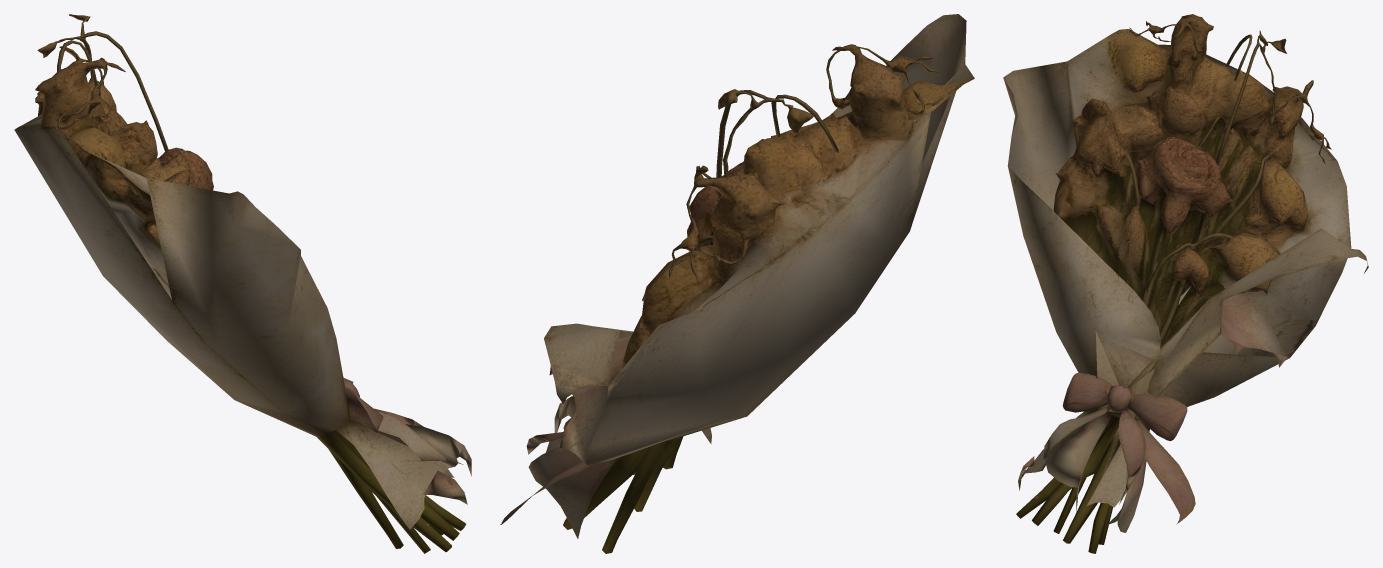
Rendered from Decayed Flower bouqet.fbx.
The picture shows the model from 3 angles, left to right: view 1: azimuth 30°, elevation 25°; view 2: azimuth 150°, elevation 25°; view 3: azimuth 270°, elevation 25°; orthographic projection. The views are drawn at different scales.
Parts seen in each view (by area): view 1: tripo_node_f6f20ded-367b-4bff-965d-6bf073f198e2; view 2: tripo_node_f6f20ded-367b-4bff-965d-6bf073f198e2; view 3: tripo_node_f6f20ded-367b-4bff-965d-6bf073f198e2.
Part boxes in pixels (x1=…): tripo_node_f6f20ded-367b-4bff-965d-6bf073f198e2: x1=14, y1=14, x2=471, y2=553; tripo_node_f6f20ded-367b-4bff-965d-6bf073f198e2: x1=500, y1=14, x2=974, y2=553; tripo_node_f6f20ded-367b-4bff-965d-6bf073f198e2: x1=1003, y1=14, x2=1368, y2=553.
Bounding box in the file's own units: 75.2 × 99.8 × 77.93.
1 material, 1 textured.
